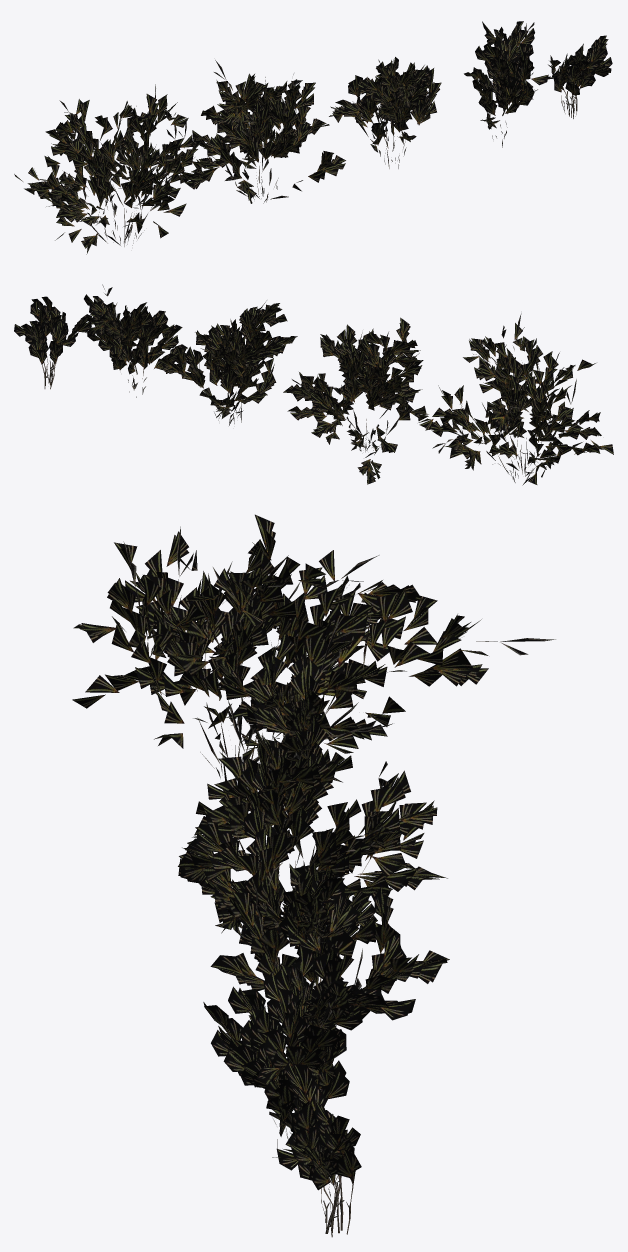
File: wild_rooibos_bush.glb
3 views of the same model, one above another, from view 1: azimuth 30°, elevation 25°; view 2: azimuth 150°, elevation 25°; view 3: azimuth 270°, elevation 25° (orthographic). The views are drawn at different scales.
Parts seen in each view (by area): view 1: wild_rooibos_bush_a, wild_rooibos_bush_b, wild_rooibos_bush_c, wild_rooibos_bush_d, wild_rooibos_bush_e; view 2: wild_rooibos_bush_a, wild_rooibos_bush_b, wild_rooibos_bush_c, wild_rooibos_bush_d, wild_rooibos_bush_e; view 3: wild_rooibos_bush_a, wild_rooibos_bush_b, wild_rooibos_bush_c, wild_rooibos_bush_d, wild_rooibos_bush_e.
Boxes of the visible parts, x1,y1,x2,y2 form: wild_rooibos_bush_a: [14, 84, 211, 254]; wild_rooibos_bush_b: [179, 60, 345, 203]; wild_rooibos_bush_c: [329, 57, 441, 168]; wild_rooibos_bush_d: [464, 21, 555, 147]; wild_rooibos_bush_e: [548, 35, 612, 118]; wild_rooibos_bush_a: [399, 313, 613, 485]; wild_rooibos_bush_b: [283, 317, 428, 484]; wild_rooibos_bush_c: [158, 300, 297, 425]; wild_rooibos_bush_d: [84, 284, 187, 397]; wild_rooibos_bush_e: [14, 296, 91, 389]; wild_rooibos_bush_a: [72, 514, 555, 782]; wild_rooibos_bush_b: [178, 619, 447, 935]; wild_rooibos_bush_c: [178, 805, 449, 1050]; wild_rooibos_bush_d: [203, 945, 415, 1148]; wild_rooibos_bush_e: [266, 1062, 361, 1237].
Size of the model in its own units: 2.27 by 0.5406 by 0.8388.
3 materials, 3 textured.
